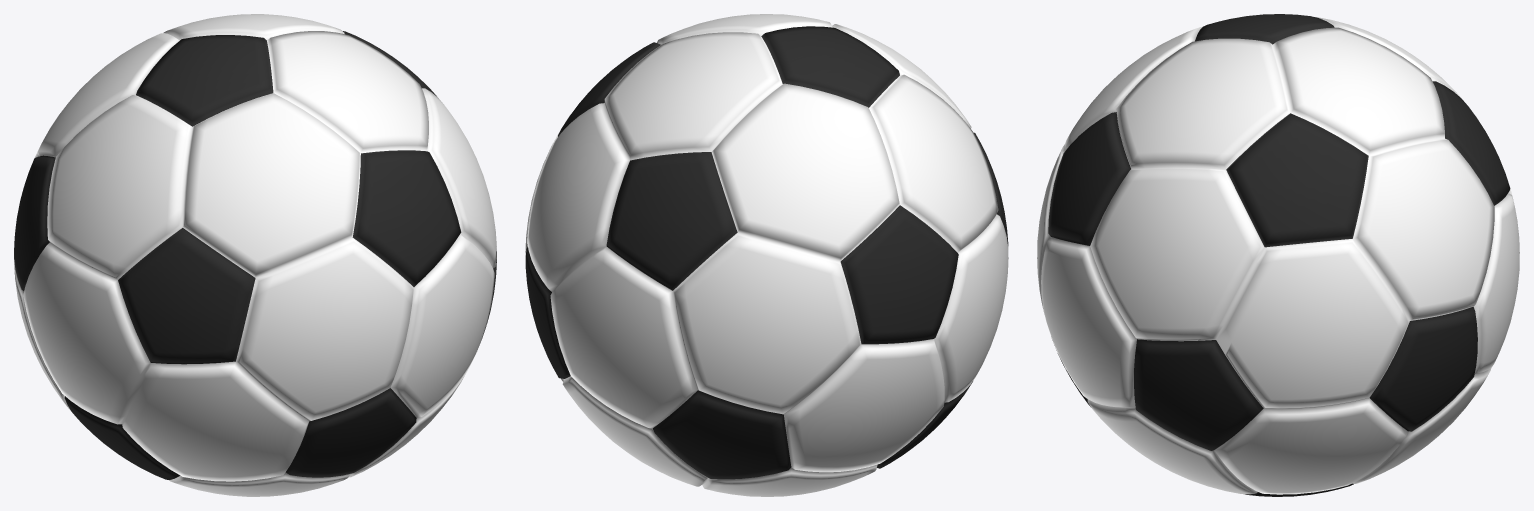
The model's file is SM_Balon.fbx.
3 views of the same model, side by side, from view 1: azimuth 30°, elevation 25°; view 2: azimuth 150°, elevation 25°; view 3: azimuth 270°, elevation 25° (orthographic).
Parts seen in each view (by area): view 1: Balon; view 2: Balon; view 3: Balon.
Boxes of the visible parts, box(x1,y1,x2,y2) form: Balon: box(14, 14, 496, 496); Balon: box(525, 14, 1008, 496); Balon: box(1037, 14, 1519, 496).
Size of the model in its own units: 36.82 by 36.8 by 36.79.
